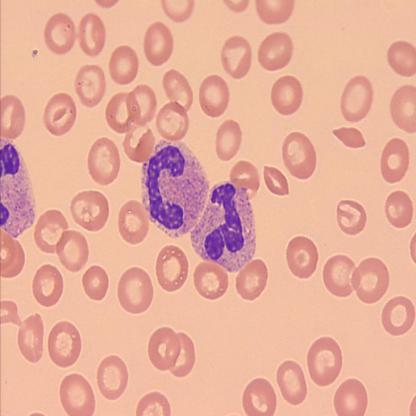Band Neutrophil: (141, 139, 209, 238), (189, 180, 260, 272)
